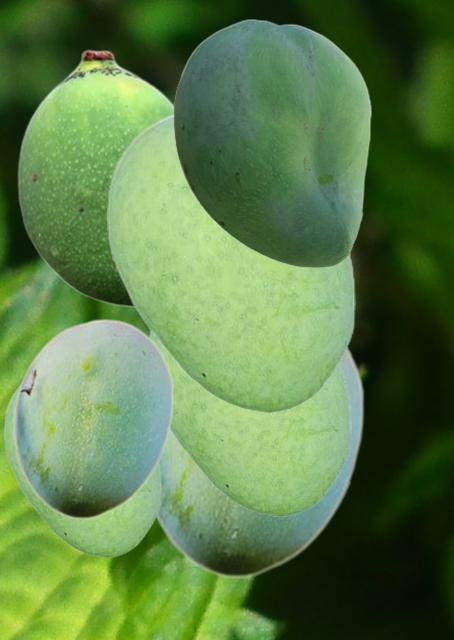green_mango: (107, 111, 354, 411), (154, 343, 364, 577), (173, 19, 370, 267), (17, 49, 173, 307), (148, 330, 350, 515), (12, 318, 173, 518), (4, 384, 160, 556)
